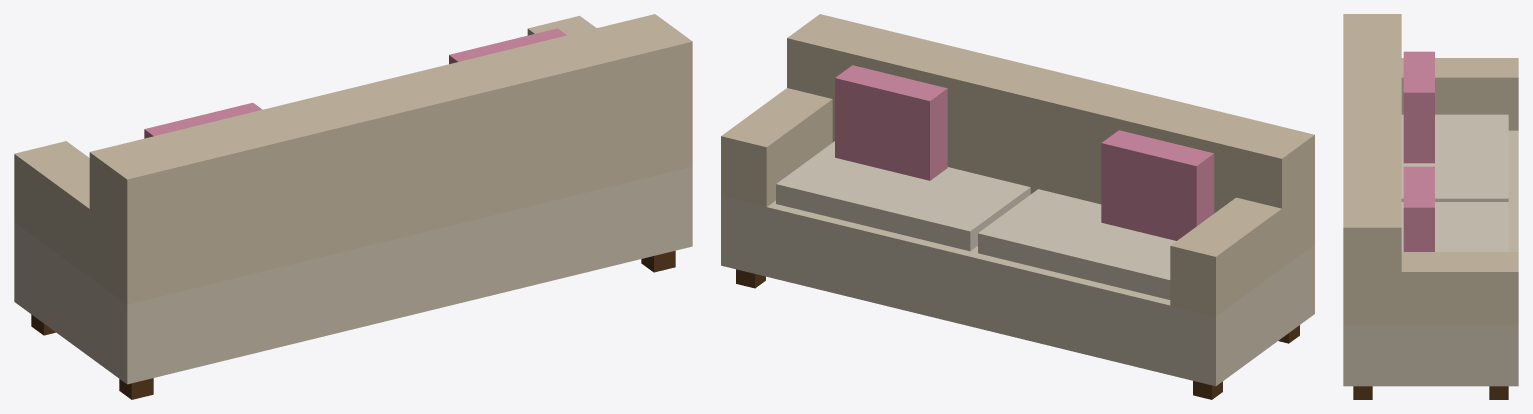
File: ncb-sofa.glb
3 views of the same model, side by side, from view 1: azimuth 30°, elevation 25°; view 2: azimuth 150°, elevation 25°; view 3: azimuth 270°, elevation 25° (orthographic). The views are drawn at different scales.
Parts seen in each view (by area): view 1: box-prop; view 2: box-prop; view 3: box-prop.
Boxes of the visible parts, x1,y1,x2,y2 form: box-prop: (14, 14, 692, 399); box-prop: (721, 14, 1314, 399); box-prop: (1343, 14, 1518, 399).
Bounding box in the file's own units: 2.6 × 1 × 0.9.
